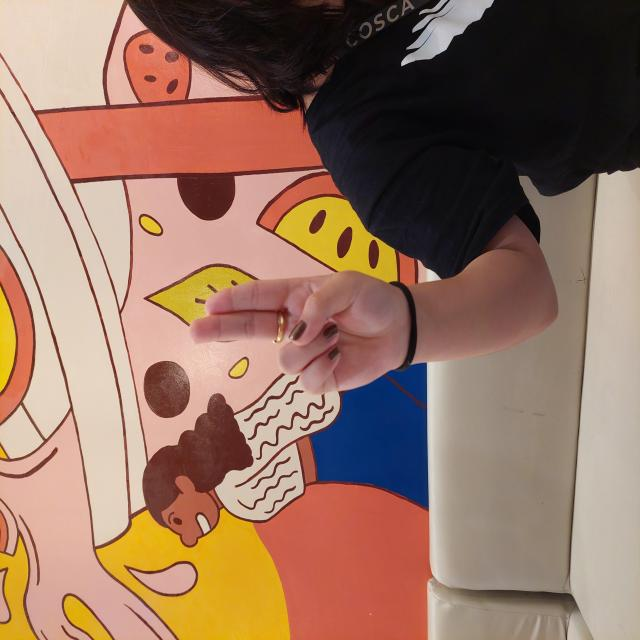U: (243, 186, 371, 408)
